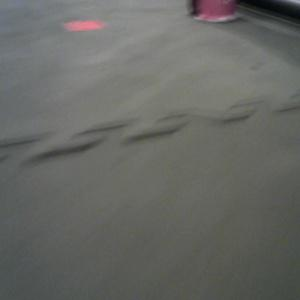right: (184, 1, 239, 22)
